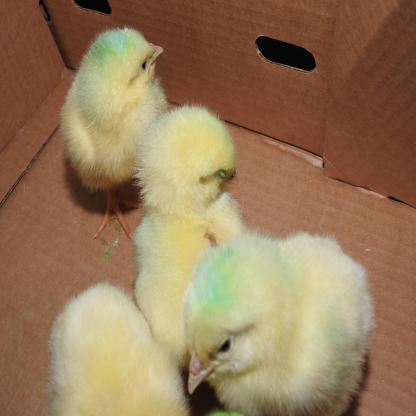Chickrotationtrack_idkeyframe: (184, 238, 367, 416), (59, 23, 164, 210), (126, 212, 254, 333), (48, 282, 172, 406), (140, 104, 237, 230)
